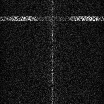wifi: (1, 15, 104, 20)
